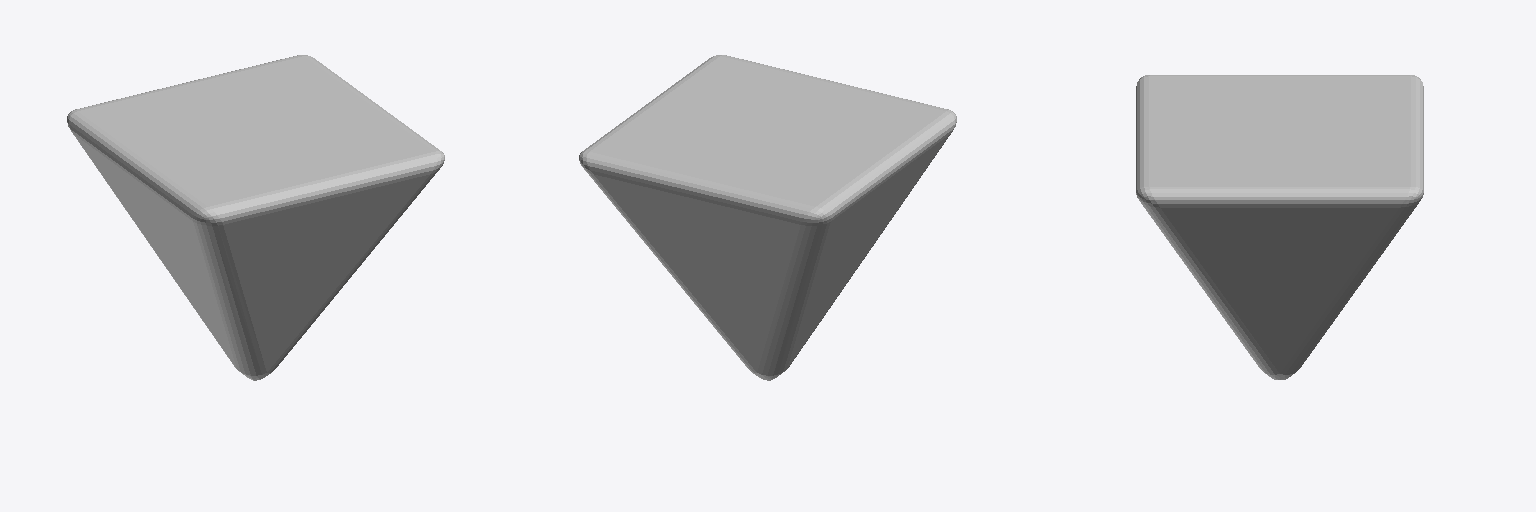
Rendered from cur3.obj.
3 views of the same model, side by side, from view 1: azimuth 30°, elevation 25°; view 2: azimuth 150°, elevation 25°; view 3: azimuth 270°, elevation 25° (orthographic).
Parts seen in each view (by area): view 1: Cube; view 2: Cube; view 3: Cube.
Part boxes in pixels (x1,y1,x2,y2): Cube: (67, 55, 444, 380); Cube: (579, 55, 956, 380); Cube: (1136, 75, 1423, 379).
Bounding box in the file's own units: 0.5971 × 0.5702 × 0.5971.